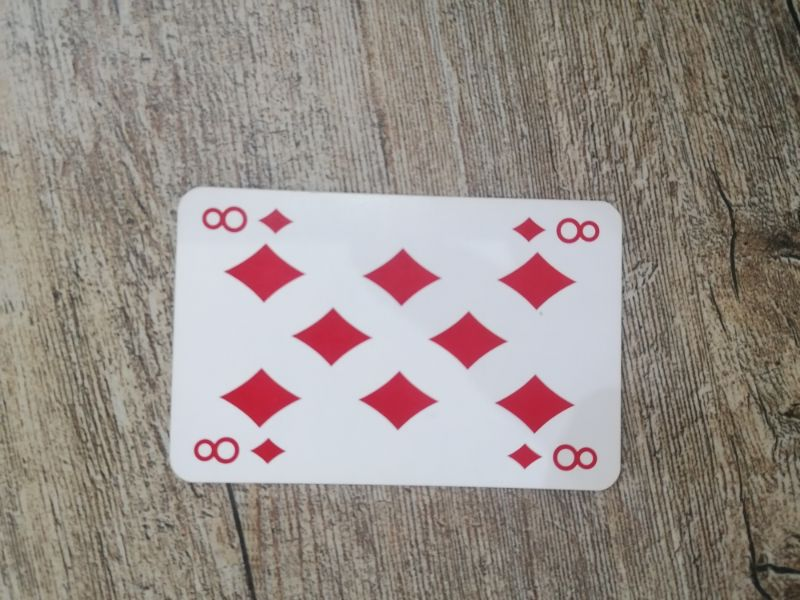8d: (197, 199, 299, 240), (509, 208, 604, 248), (506, 440, 601, 476), (190, 434, 291, 467)
